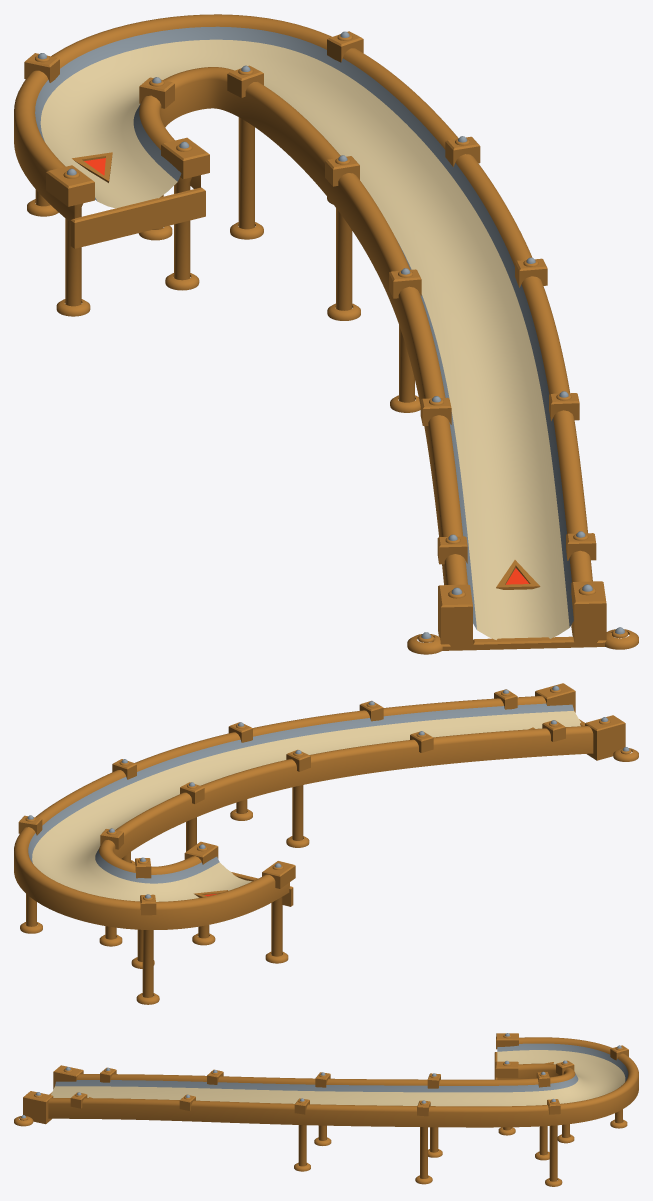
The model's file is meridian-rampR.dae.
3 renders of one model, top to bottom at view 1: azimuth 30°, elevation 25°; view 2: azimuth 150°, elevation 25°; view 3: azimuth 270°, elevation 25°, orthographic. The views are drawn at different scales.
Visible parts, largest first — view 1: ramp_floor, accent, metal; view 2: accent, ramp_floor, metal; view 3: accent, ramp_floor, metal.
Part boxes in pixels (left/top/right/bottom): ramp_floor: left=40, top=39, right=569, bottom=639; accent: left=14, top=14, right=638, bottom=654; metal: left=35, top=26, right=624, bottom=638; accent: left=14, top=683, right=638, bottom=1004; ramp_floor: left=32, top=711, right=580, bottom=901; metal: left=27, top=685, right=629, bottom=898; accent: left=14, top=1033, right=638, bottom=1186; ramp_floor: left=51, top=1050, right=625, bottom=1106; metal: left=21, top=1033, right=628, bottom=1118.
Size of the model in its own units: 0.3519 by 0.1328 by 0.8763.
